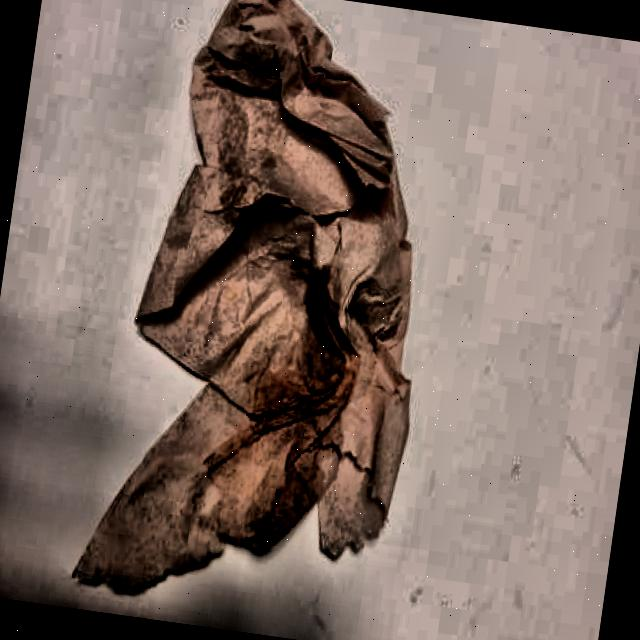trash: (75, 0, 456, 640)
